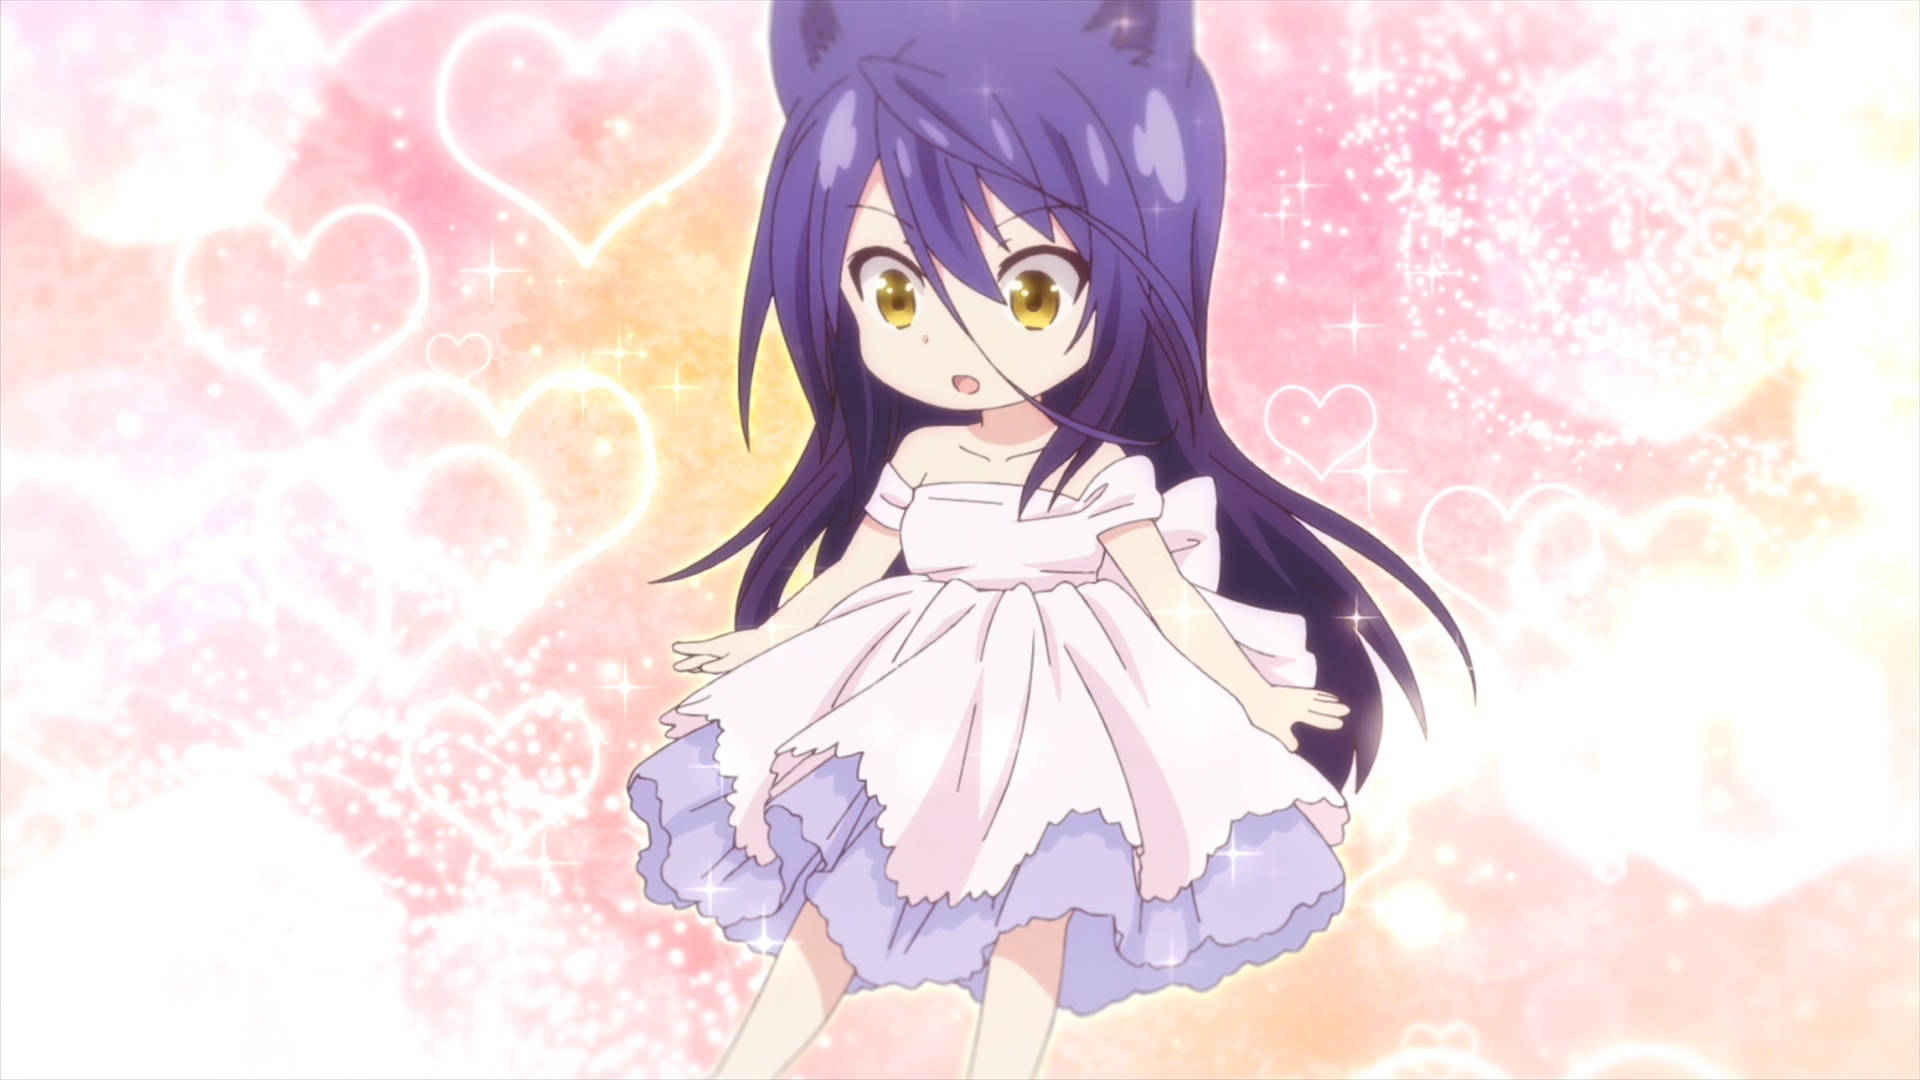皋: (626, 1, 1478, 1080)
